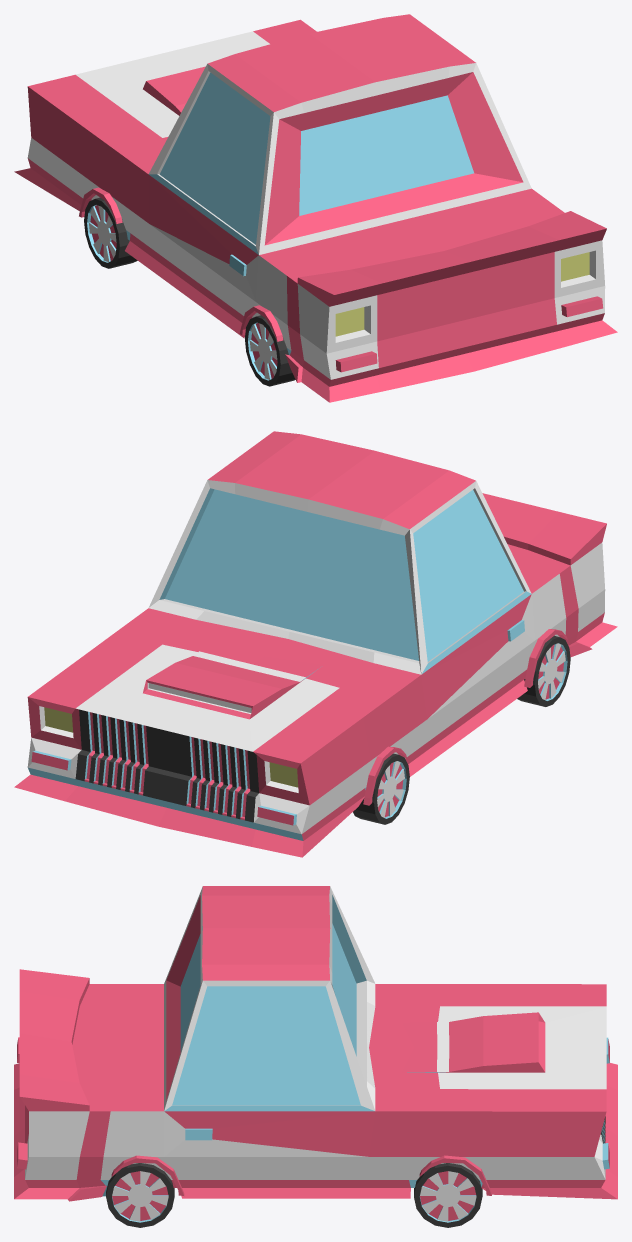
File: car.fbx
3 renders of one model, top to bottom at view 1: azimuth 30°, elevation 25°; view 2: azimuth 150°, elevation 25°; view 3: azimuth 270°, elevation 25°, orthographic. The views are drawn at different scales.
Parts seen in each view (by area): view 1: car; view 2: car; view 3: car.
Boxes of the visible parts, x1,y1,x2,y2 form: car: [14, 14, 617, 402]; car: [14, 431, 617, 857]; car: [14, 886, 617, 1227].
Bounding box in the file's own units: 143 × 112 × 264.
